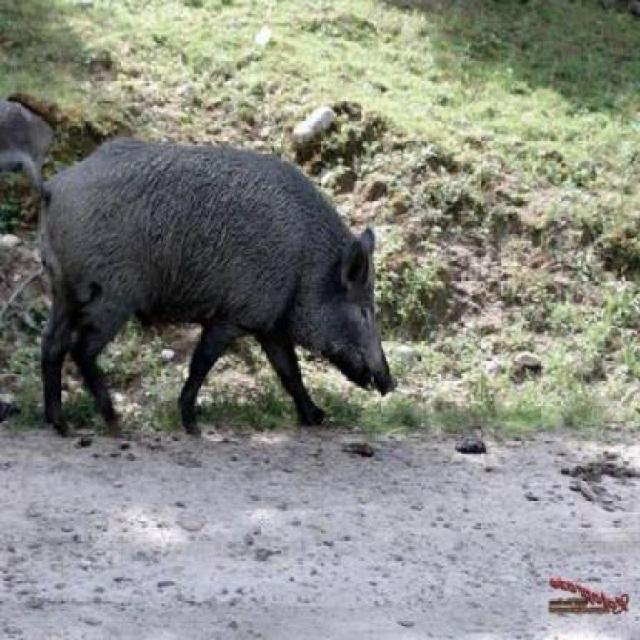Boar: (2, 110, 420, 438), (1, 77, 44, 229)
